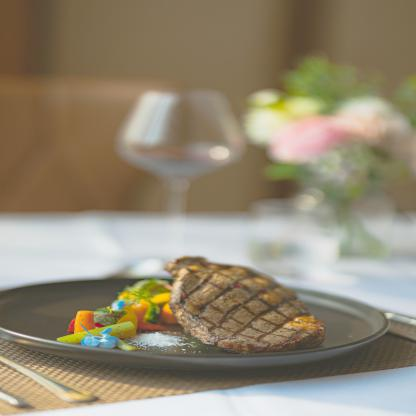Carne: (169, 257, 324, 350)
